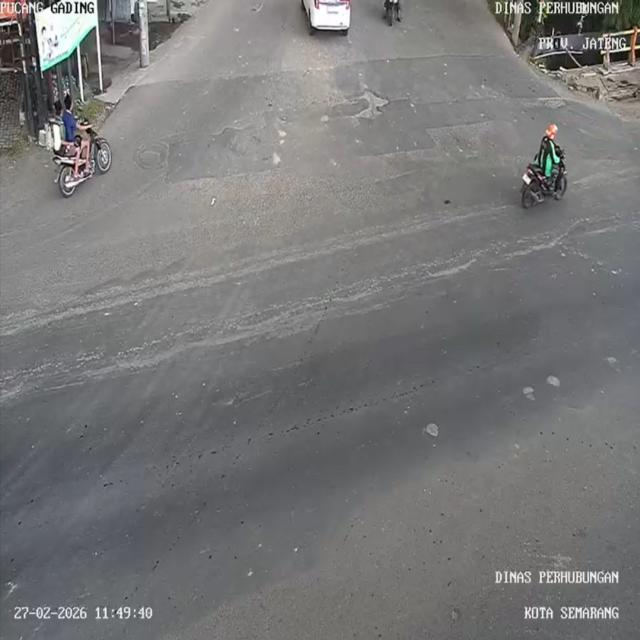motorcycle: (54, 138, 115, 196), (519, 159, 571, 212), (381, 0, 403, 32)
person: (536, 124, 559, 176), (47, 105, 68, 152), (62, 97, 80, 145)
